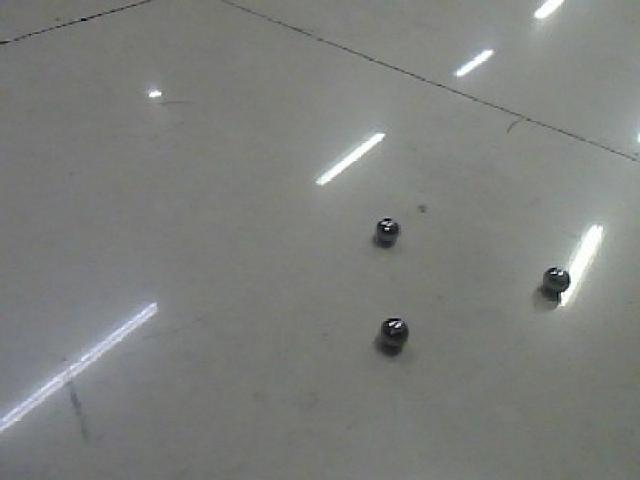steel-ball: (532, 254, 592, 308), (366, 305, 414, 366), (369, 198, 405, 251)
